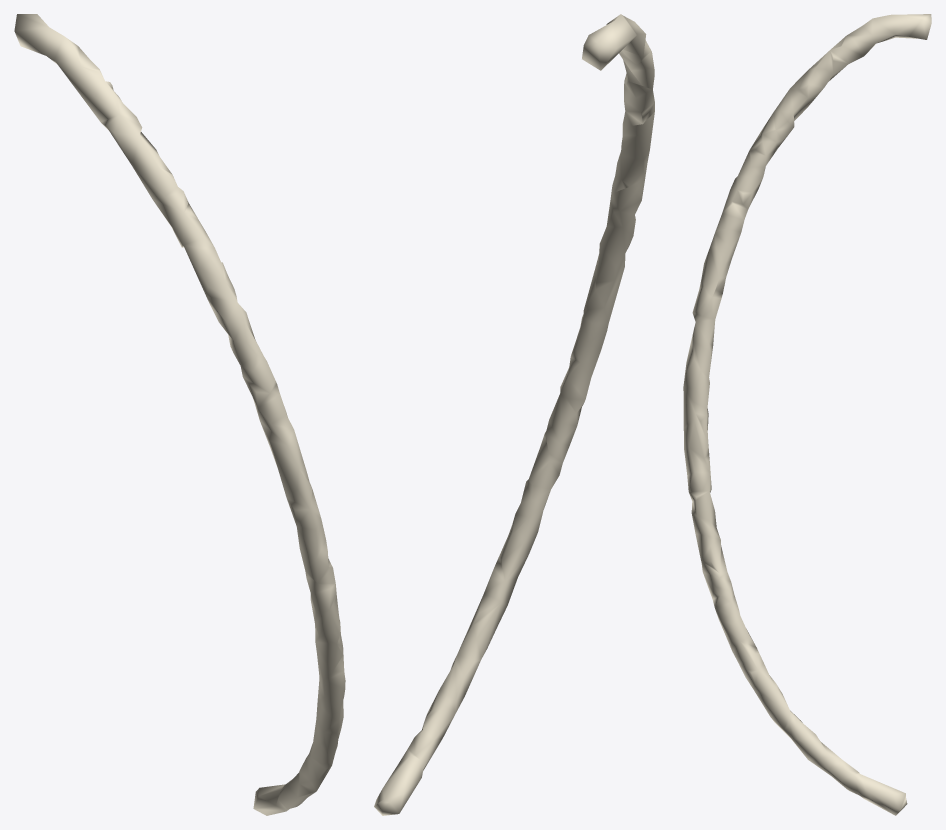
The model's file is rib_7_l.glb.
3 renders of one model, left to right at view 1: azimuth 30°, elevation 25°; view 2: azimuth 150°, elevation 25°; view 3: azimuth 270°, elevation 25°, orthographic. The views are drawn at different scales.
Parts seen in each view (by area): view 1: geometry_0; view 2: geometry_0; view 3: geometry_0.
Part boxes in pixels (bbox=[...]): geometry_0: bbox=[14, 14, 345, 815]; geometry_0: bbox=[374, 14, 654, 815]; geometry_0: bbox=[683, 14, 931, 815].
Size of the model in its own units: 0.4107 by 1.31 by 0.4157.
